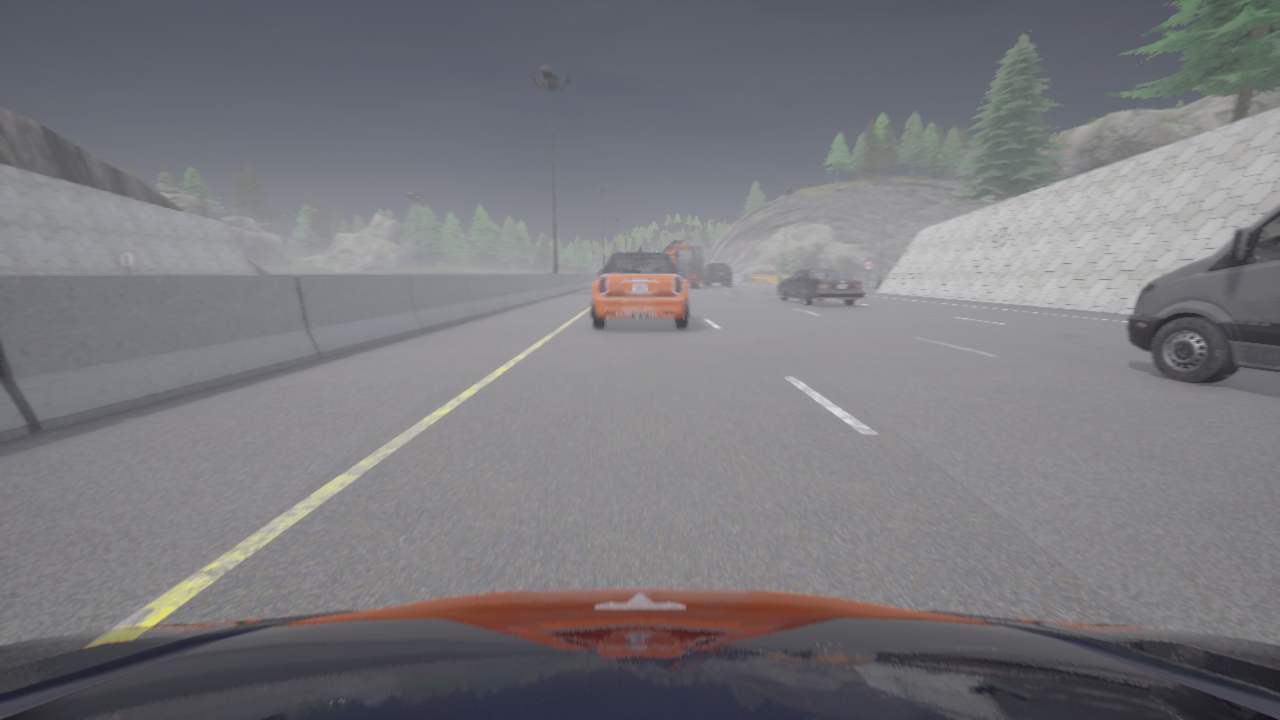cyclist: (0, 588, 1279, 719), (1127, 204, 1279, 383), (591, 251, 688, 328), (776, 268, 865, 305), (662, 240, 702, 287), (702, 264, 731, 286), (619, 251, 660, 252)
